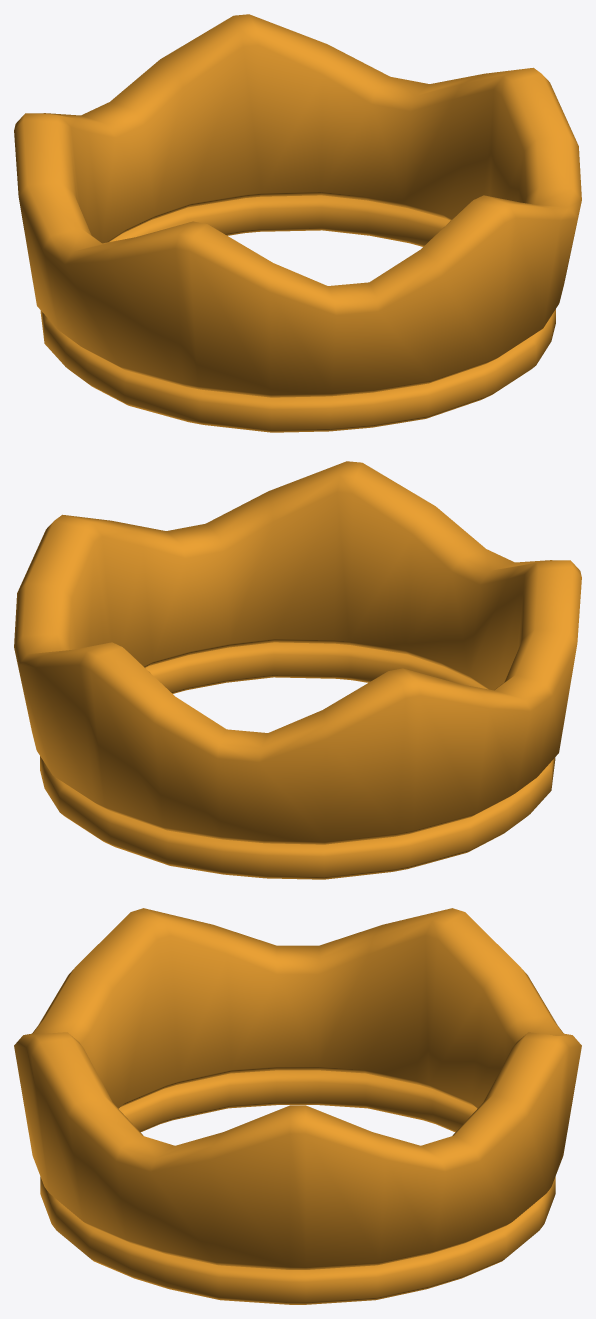
The model's file is Host_Crown.fbx.
3 views of the same model, one above another, from view 1: azimuth 30°, elevation 25°; view 2: azimuth 150°, elevation 25°; view 3: azimuth 270°, elevation 25° (orthographic).
Parts seen in each view (by area): view 1: Cylinder.002; view 2: Cylinder.002; view 3: Cylinder.002.
Part boxes in pixels (x1,y1,x2,y2): Cylinder.002: [14, 14, 581, 432]; Cylinder.002: [14, 461, 581, 879]; Cylinder.002: [14, 908, 581, 1304].
Size of the model in its own units: 114 by 43.54 by 115.
